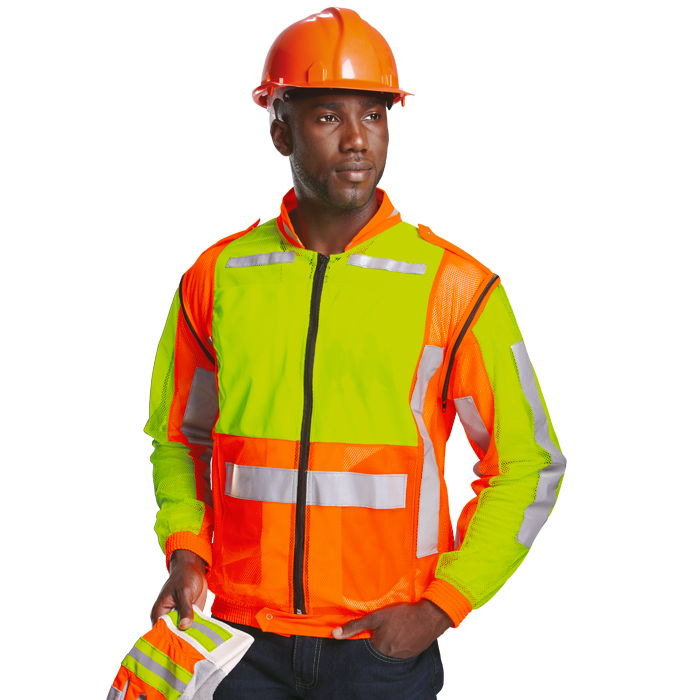epi: (143, 3, 567, 692)
